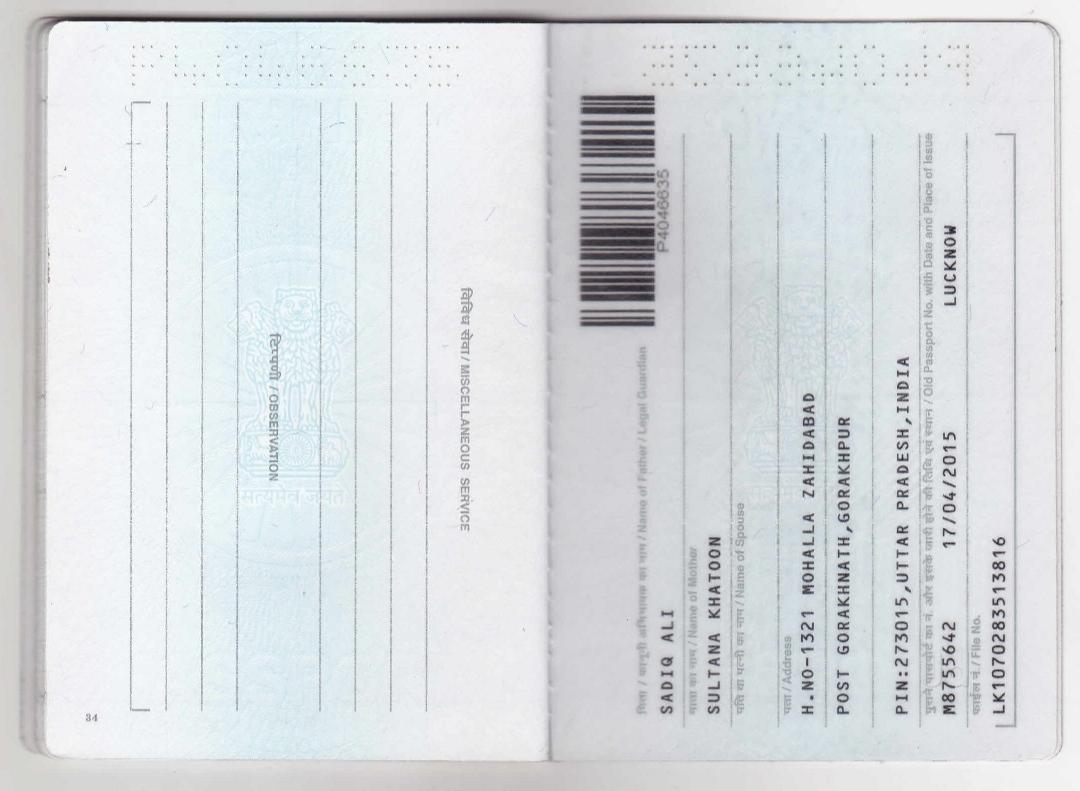File_no: (986, 529, 1022, 721)
address: (798, 334, 924, 718)
father_name: (646, 594, 689, 724)
mother_name: (700, 517, 736, 723)
old_passport_details: (929, 204, 970, 723)
passport_no: (652, 162, 682, 266)
